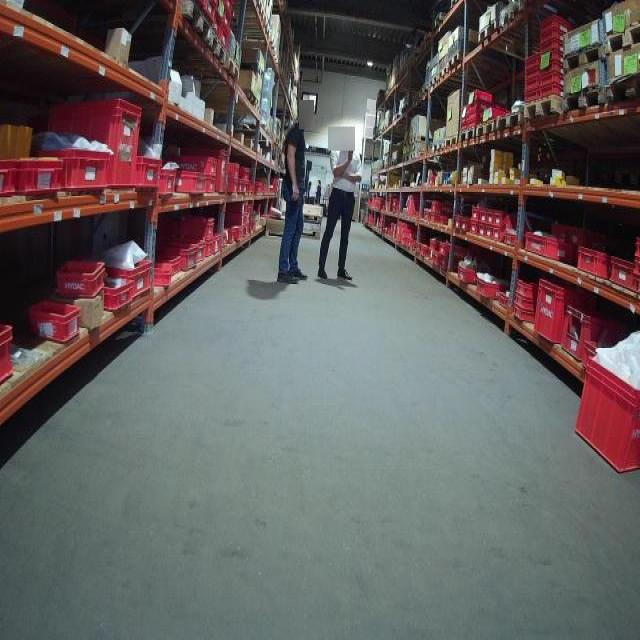pallet: (181, 0, 211, 48), (604, 23, 640, 58), (562, 44, 604, 73), (562, 89, 606, 114), (522, 95, 562, 121), (606, 74, 640, 104), (500, 2, 525, 30), (210, 31, 226, 66), (477, 19, 499, 44), (496, 111, 521, 131), (223, 55, 240, 83), (475, 123, 496, 138), (448, 51, 463, 72), (459, 129, 474, 144), (443, 134, 457, 149), (439, 63, 448, 81), (430, 74, 438, 88), (433, 142, 443, 151)
small_load_carrier: (43, 90, 146, 191), (572, 355, 640, 475), (529, 275, 575, 350), (564, 306, 614, 366), (24, 298, 82, 343), (53, 252, 112, 296), (64, 144, 115, 194), (17, 153, 66, 195), (520, 232, 572, 269), (112, 258, 156, 299), (159, 237, 203, 275), (130, 153, 164, 197), (576, 248, 611, 286), (102, 280, 135, 314), (2, 322, 18, 389), (609, 251, 632, 295), (174, 151, 218, 174), (175, 168, 207, 197), (1, 153, 19, 204), (158, 167, 182, 203), (214, 147, 228, 200), (154, 252, 182, 275), (513, 306, 539, 330), (477, 277, 503, 301), (183, 214, 214, 233), (149, 267, 173, 291), (535, 86, 566, 104), (201, 174, 218, 197), (200, 240, 213, 268), (539, 73, 566, 86), (538, 49, 563, 63), (492, 211, 509, 231), (515, 280, 536, 296), (537, 63, 564, 74), (460, 264, 477, 281), (514, 295, 532, 311), (467, 93, 485, 109), (523, 88, 542, 103), (523, 52, 542, 66), (225, 159, 237, 179), (213, 231, 223, 254), (231, 224, 242, 244), (223, 179, 237, 193), (493, 231, 508, 242), (481, 208, 493, 221), (463, 218, 474, 232), (525, 77, 542, 86), (470, 222, 482, 234), (526, 66, 540, 76), (456, 217, 466, 231), (633, 237, 640, 256), (479, 226, 491, 237), (633, 259, 639, 280), (199, 240, 205, 260), (486, 211, 498, 221), (472, 210, 482, 217), (487, 233, 494, 241)
